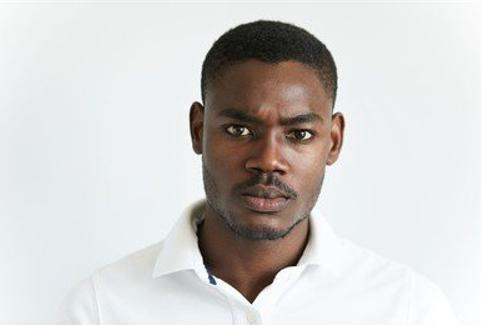Sober: (207, 63, 328, 229)
